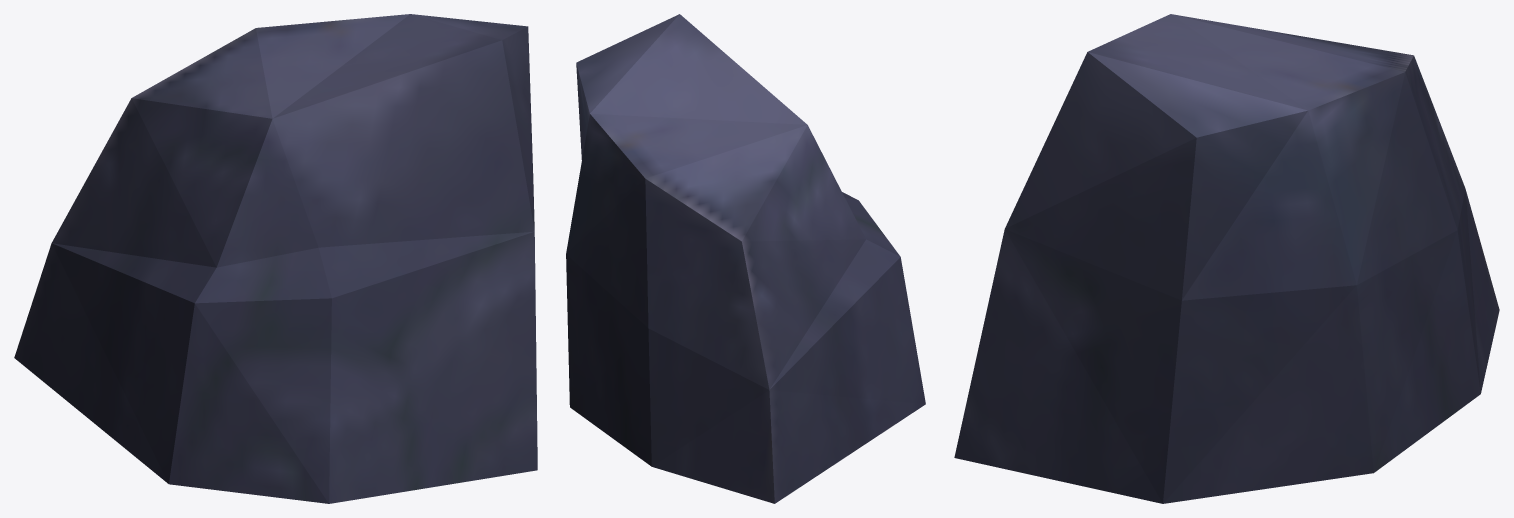
File: Area11_6.fbx
The picture shows the model from 3 angles, left to right: view 1: azimuth 30°, elevation 25°; view 2: azimuth 150°, elevation 25°; view 3: azimuth 270°, elevation 25°; orthographic projection. The views are drawn at different scales.
Visible parts, largest first — view 1: Area11_6; view 2: Area11_6; view 3: Area11_6.
Part boxes in pixels (x1=…): Area11_6: x1=14, y1=14, x2=537, y2=503; Area11_6: x1=566, y1=14, x2=925, y2=503; Area11_6: x1=954, y1=14, x2=1499, y2=503.
Bounding box in the file's own units: 471 × 439 × 516.
